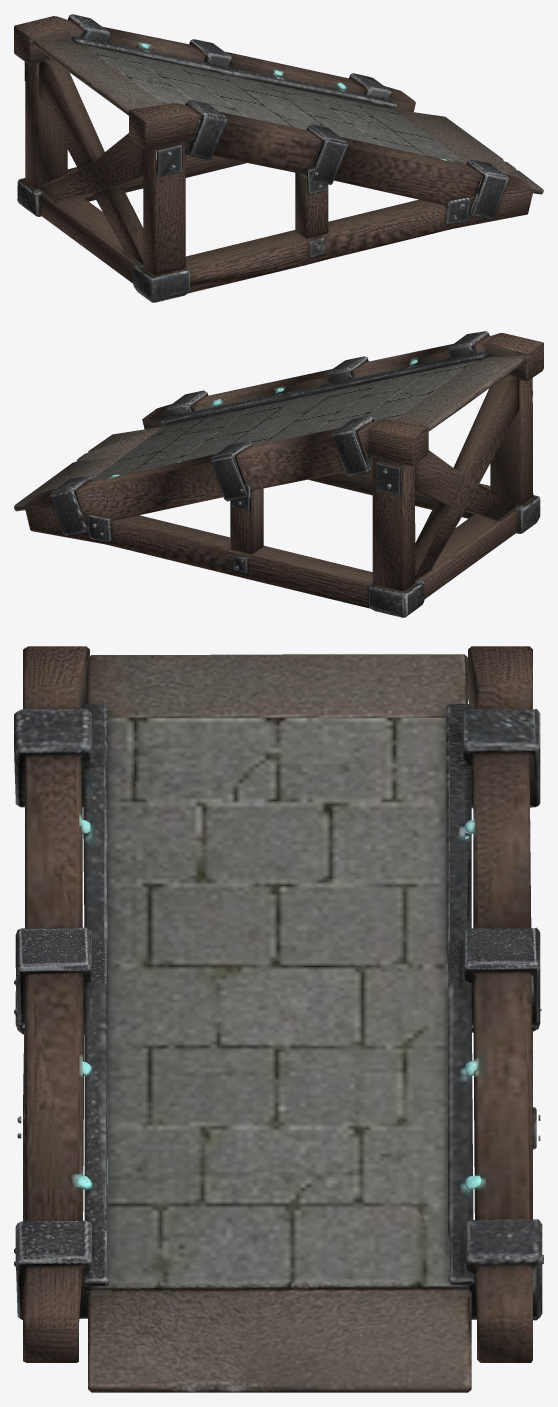
Rendered from tripo_convert_5fe34376-698d-40e4-b190-57ae4b881ac1.fbx.
The picture shows the model from 3 angles, top to bottom: view 1: azimuth 30°, elevation 25°; view 2: azimuth 150°, elevation 25°; view 3: azimuth 270°, elevation 25°; orthographic projection. The views are drawn at different scales.
Visible parts, largest first — view 1: tripo_node_5fe34376; view 2: tripo_node_5fe34376; view 3: tripo_node_5fe34376.
Boxes of the visible parts, bbox=[...] form: tripo_node_5fe34376: bbox=[14, 14, 543, 302]; tripo_node_5fe34376: bbox=[14, 331, 543, 617]; tripo_node_5fe34376: bbox=[14, 646, 543, 1392].
Bounding box in the file's own units: 0.998 × 0.4277 × 0.5723.
Materials: 1 (1 with a texture image).
